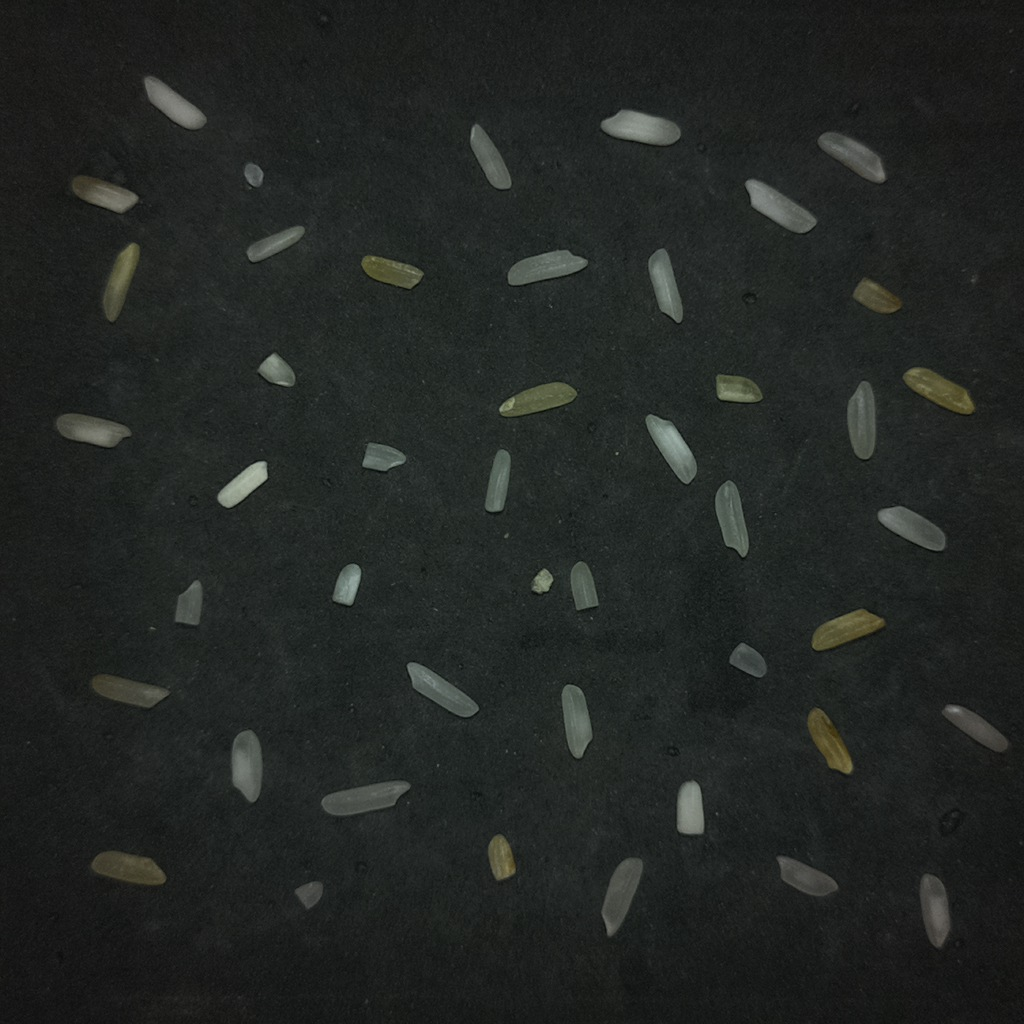broken: (745, 179, 816, 233), (817, 131, 885, 183), (877, 506, 945, 551), (231, 730, 262, 802), (247, 225, 304, 262), (570, 561, 599, 611), (729, 642, 766, 677), (257, 352, 295, 386), (362, 442, 405, 471), (174, 581, 202, 625), (294, 881, 323, 909), (243, 162, 263, 187)
chalky: (143, 76, 206, 129), (600, 109, 680, 145), (71, 175, 138, 213), (218, 460, 267, 507), (676, 780, 704, 834), (332, 563, 362, 607)
discolored: (903, 367, 974, 414), (812, 608, 885, 650), (102, 242, 140, 322), (807, 708, 852, 774), (498, 381, 576, 417), (91, 851, 165, 885), (361, 255, 423, 289), (852, 278, 901, 313), (487, 834, 515, 880), (716, 375, 762, 403)
foreign: (531, 568, 553, 593)
whole: (407, 662, 478, 717), (645, 414, 696, 483), (942, 704, 1009, 752), (321, 780, 410, 816), (602, 858, 642, 937), (507, 250, 588, 285), (470, 124, 511, 189), (90, 674, 168, 708), (54, 413, 131, 447), (648, 248, 682, 323), (776, 855, 838, 896), (716, 481, 748, 556), (919, 873, 950, 948), (561, 684, 592, 758), (847, 381, 875, 459), (485, 449, 510, 512)
